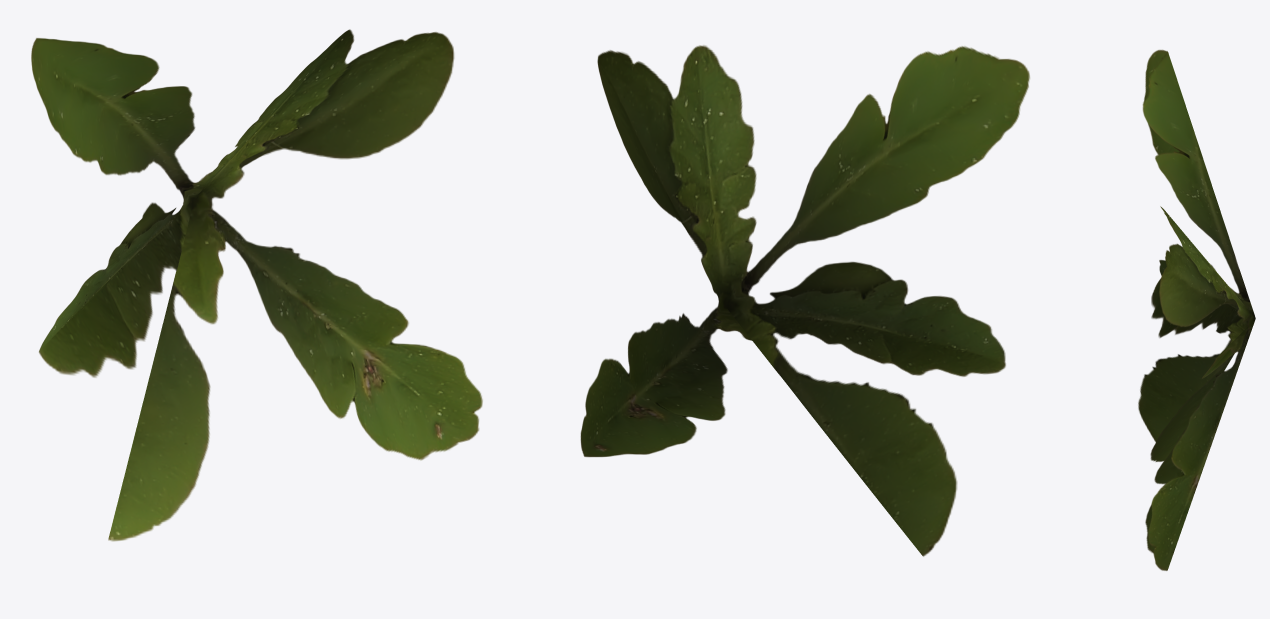
File: Pl_Weed2.glb
3 renders of one model, left to right at view 1: azimuth 30°, elevation 25°; view 2: azimuth 150°, elevation 25°; view 3: azimuth 270°, elevation 25°, orthographic. The views are drawn at different scales.
Visible parts, largest first — view 1: tiny_weed_01; view 2: tiny_weed_01; view 3: tiny_weed_01.
Boxes of the visible parts, x1,y1,x2,y2 form: tiny_weed_01: [31, 29, 482, 541]; tiny_weed_01: [580, 45, 1029, 556]; tiny_weed_01: [1138, 50, 1255, 570].
Size of the model in its own units: 0.3736 by 0.45 by 0.146.
Materials: 1 (1 with a texture image).
